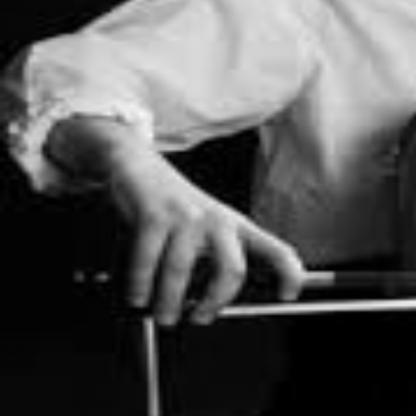good: (106, 187, 316, 332)
